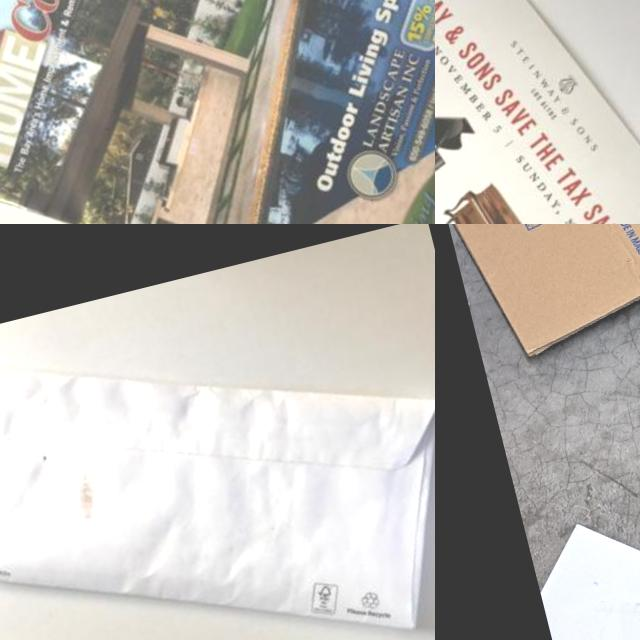papel: (0, 263, 435, 640), (0, 0, 435, 224), (435, 0, 640, 224), (525, 460, 640, 640)
papelão: (435, 224, 640, 372)
